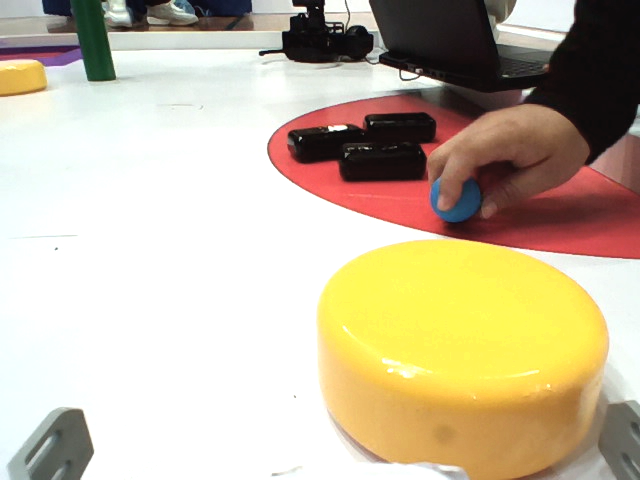black: (261, 109, 370, 159), (338, 142, 443, 183), (353, 103, 446, 138)
blue: (424, 175, 497, 221)
kuang: (1, 42, 80, 66)
yellow: (309, 237, 620, 474), (1, 58, 50, 96)
zhuzi: (64, 1, 119, 83)
